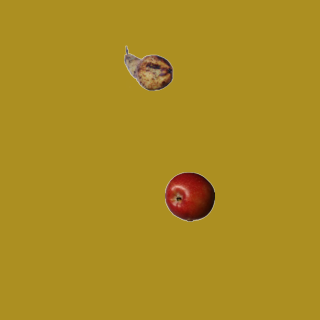Apple Braeburn: (164, 171, 214, 221)
Pear Abate: (123, 43, 173, 93)
